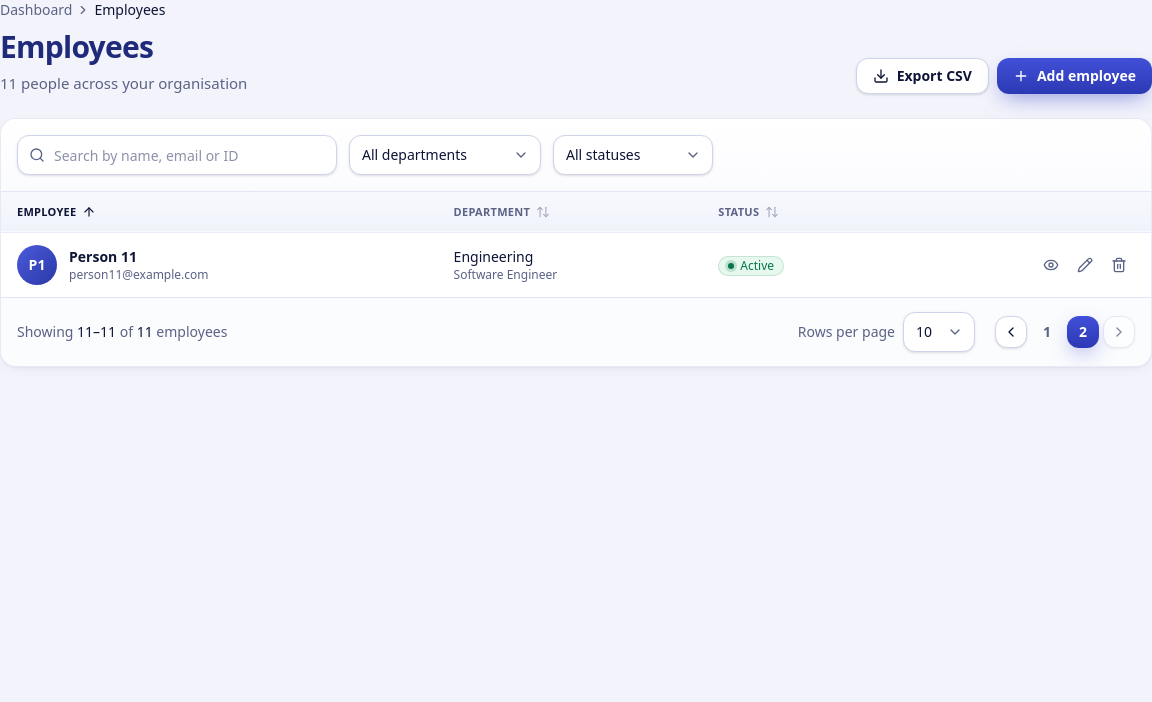
Test: <EmployeeDirectory> › delete › steps back a page when the last row of the last page is deleted
Check: the number of rows with test id "employee-row" is 1, box [1,232,1151,296]
Click the button named "Delete Person" at (1119, 264), box [1103,248,1135,280]
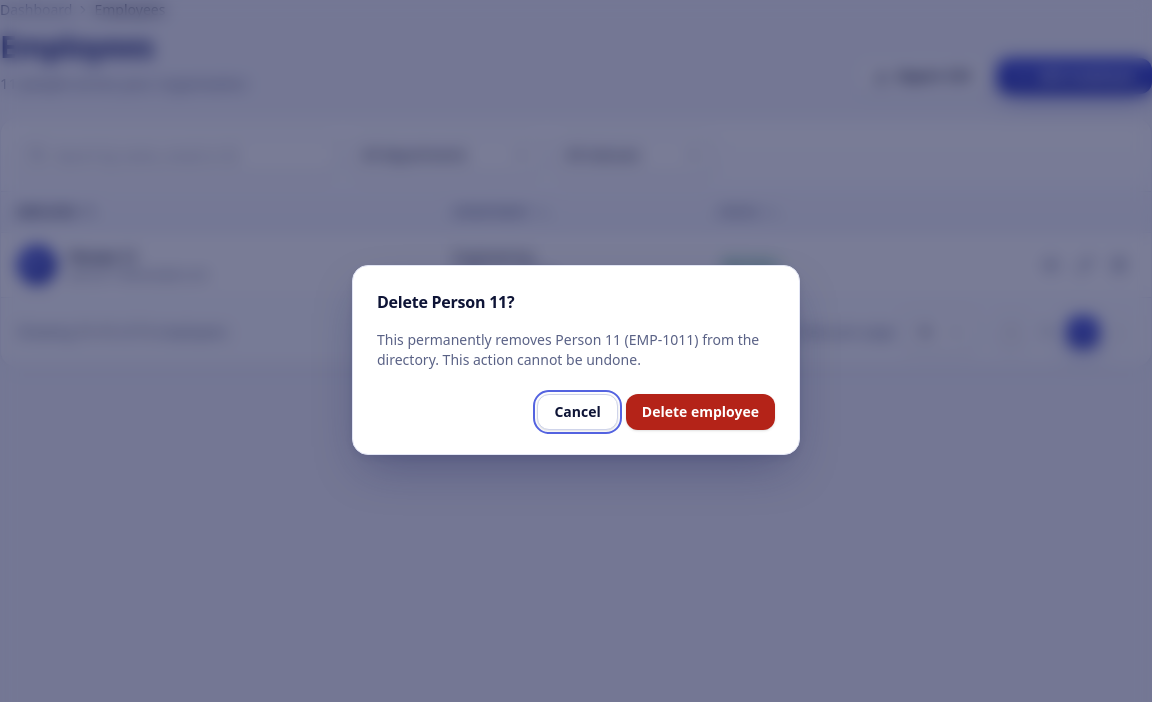
Click the button "Delete employee" at (700, 412), box [626,394,775,430]
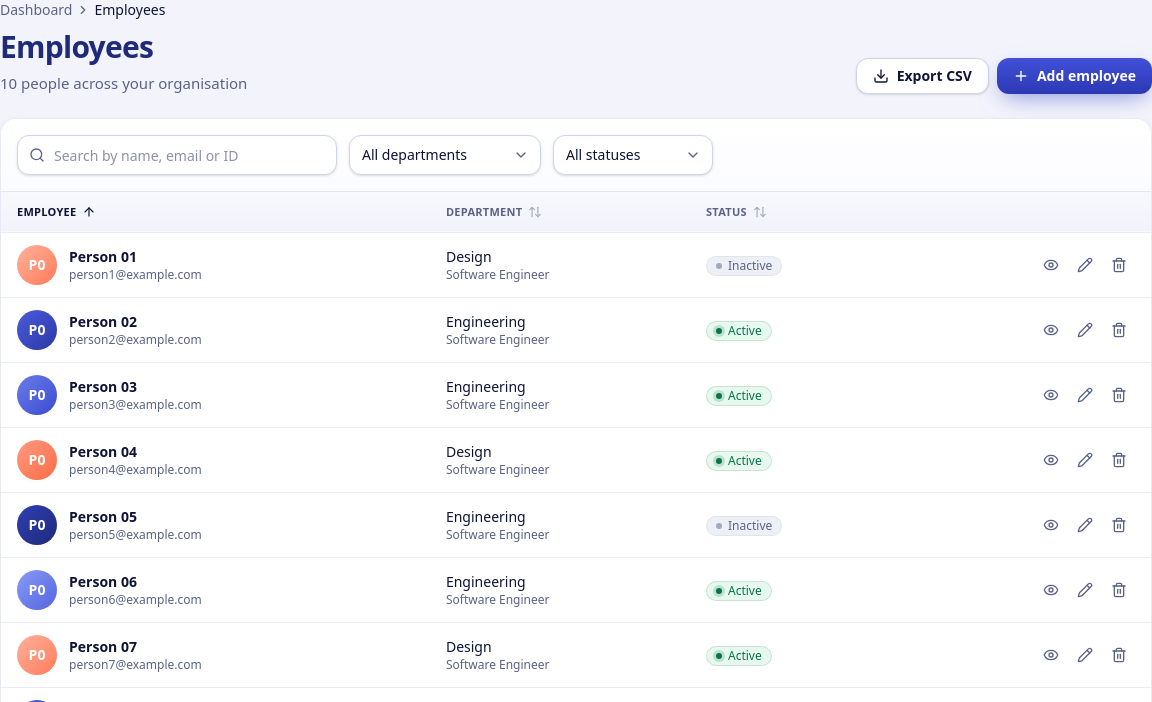
Check: the number of rows with test id "employee-row" is 10
